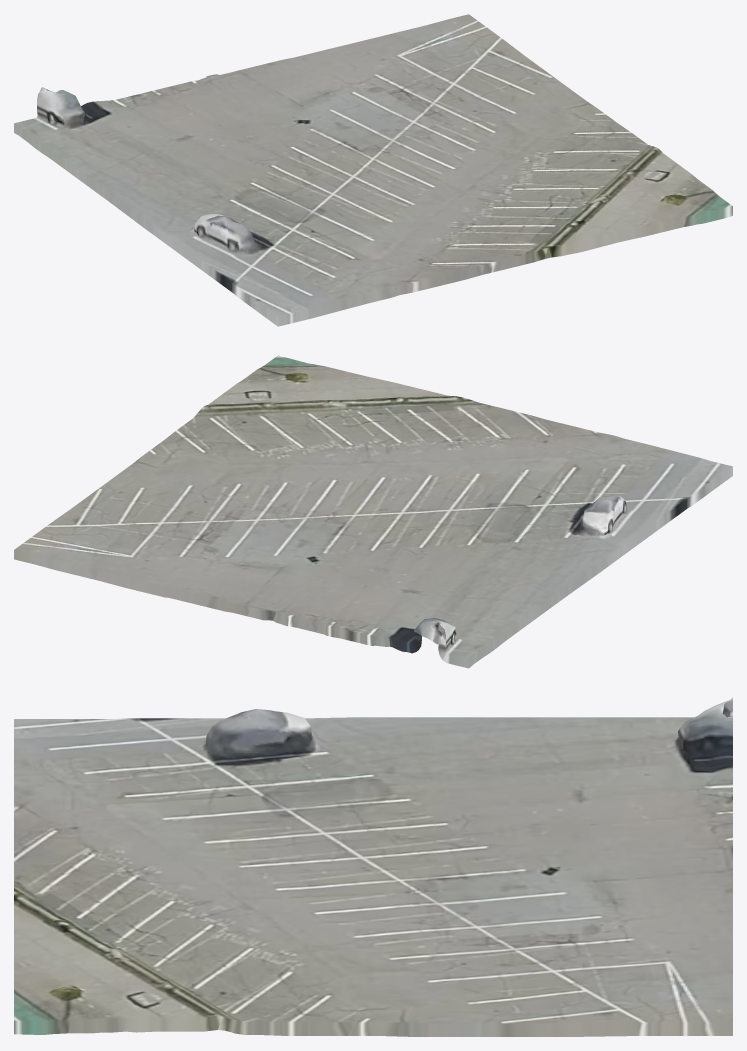
File: z20-167776-405205-h0-yup-uvflip-v3-world.glb
3 renders of one model, top to bottom at view 1: azimuth 30°, elevation 25°; view 2: azimuth 150°, elevation 25°; view 3: azimuth 270°, elevation 25°, orthographic. The views are drawn at different scales.
Bounding box in the file's own units: 30.16 × 2.64 × 30.32.
Materials: 1 (1 with a texture image).
